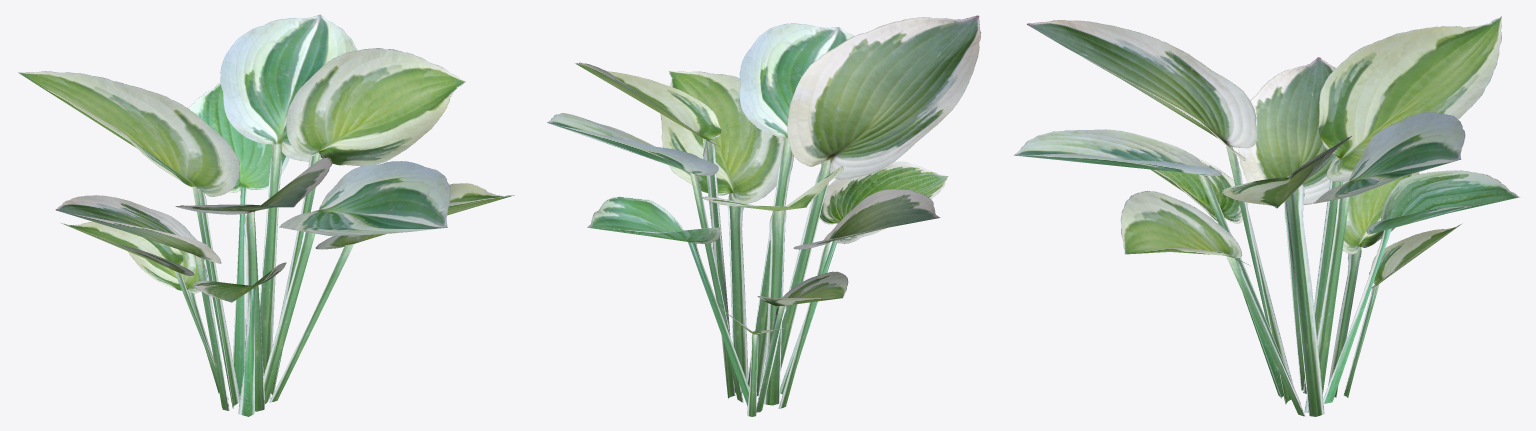
The model's file is plant_small_wg_00N_wild.fbx.
3 renders of one model, left to right at view 1: azimuth 30°, elevation 25°; view 2: azimuth 150°, elevation 25°; view 3: azimuth 270°, elevation 25°, orthographic. The views are drawn at different scales.
Parts seen in each view (by area): view 1: plant_small_wg_00N_wild; view 2: plant_small_wg_00N_wild; view 3: plant_small_wg_00N_wild.
Boxes of the visible parts, box(x1,y1,x2,y2) form: plant_small_wg_00N_wild: box(18, 14, 514, 416); plant_small_wg_00N_wild: box(547, 15, 981, 416); plant_small_wg_00N_wild: box(1014, 16, 1519, 416).
Size of the model in its own units: 59.17 by 45.97 by 62.51.
